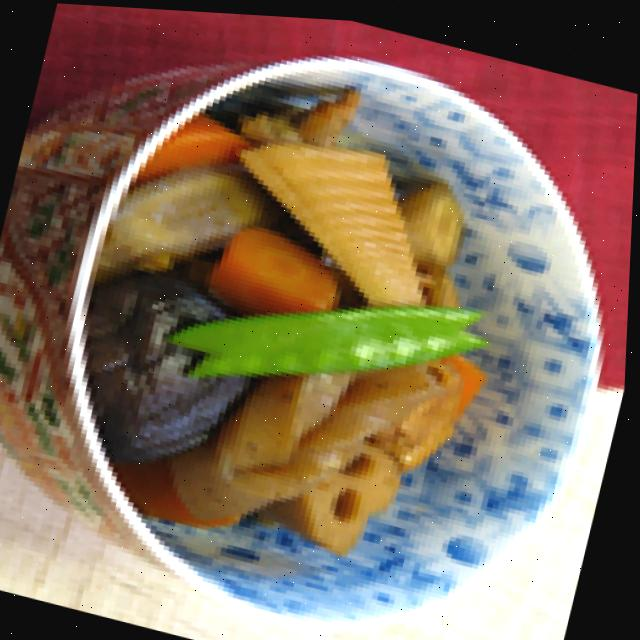鸡肉料理 含炸鸡: (24, 30, 582, 640)
